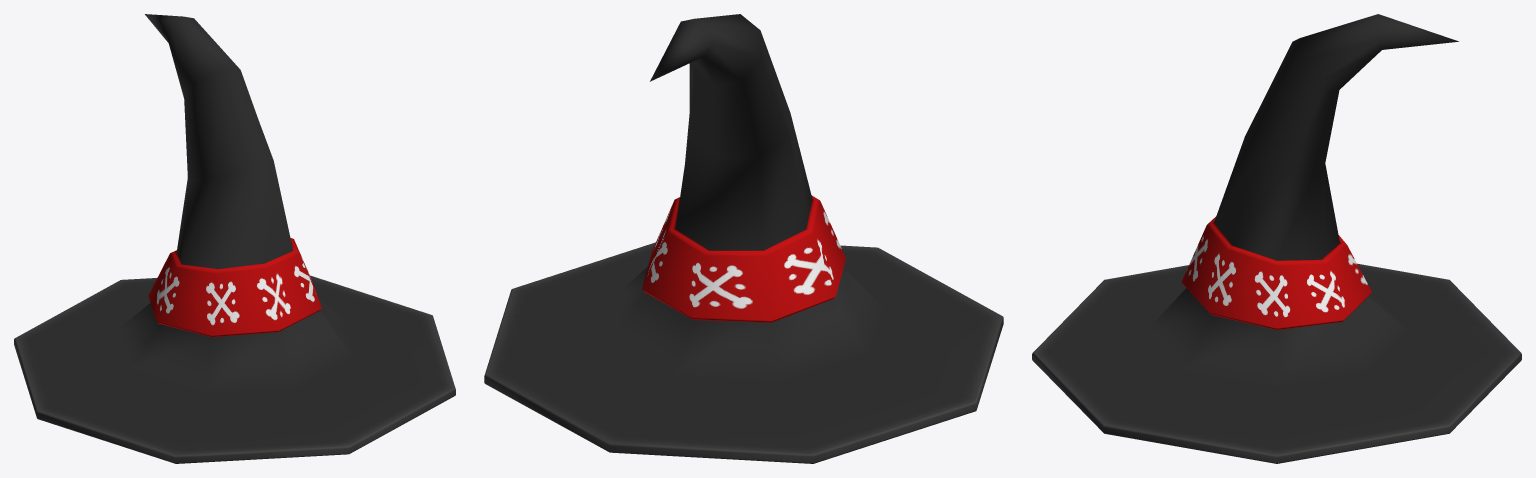
Rendered from Hat.fbx.
3 views of the same model, side by side, from view 1: azimuth 30°, elevation 25°; view 2: azimuth 150°, elevation 25°; view 3: azimuth 270°, elevation 25° (orthographic). The views are drawn at different scales.
Visible parts, largest first — view 1: Hat; view 2: Hat; view 3: Hat.
Part boxes in pixels (left/top/right/bottom): Hat: left=14, top=14, right=455, bottom=463; Hat: left=484, top=14, right=1003, bottom=463; Hat: left=1032, top=14, right=1521, bottom=463.
Bounding box in the file's own units: 12.25 × 9.5 × 12.25.
1 material, 1 textured.
